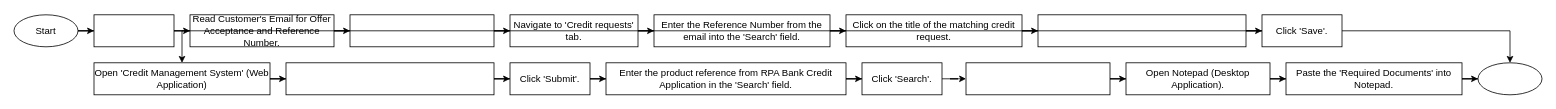
Image size: 1556x109. Some labels were removed from this diagram. The centre of each missing label's shape, as x and y in pixels:
"Copy the list of 'Required Documents'." goes at pixel 1037 78.
"End" goes at pixel 1509 78.
"Enter credentials (user: 'admin', password: '****')." goes at pixel 389 78.
"Open Email Client" goes at pixel 133 30.
"Open RPA Bank Credit Application (Web Application)." goes at pixel 421 30.
"Select 'Offer accepted' from the 'Status' dropdown menu." goes at pixel 1141 30.
